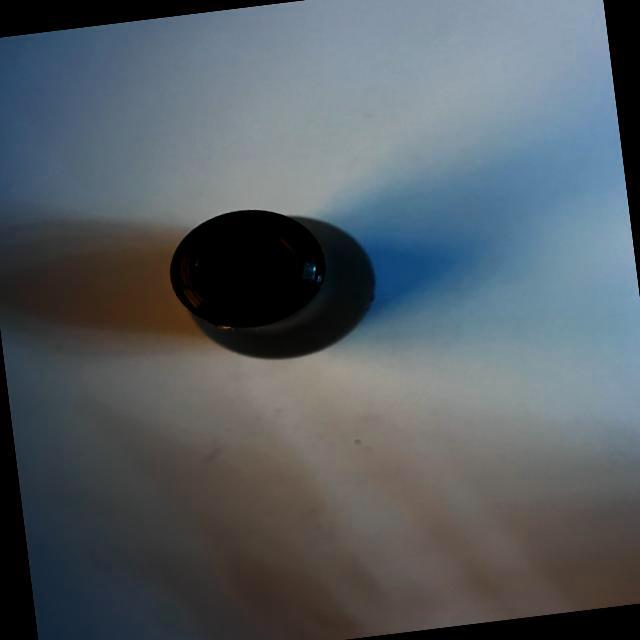glass: (154, 188, 394, 380)
